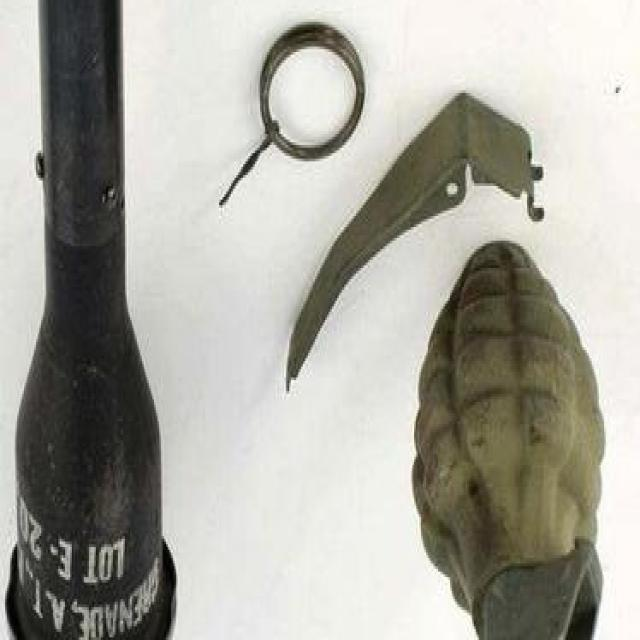grenade: (409, 242, 608, 640)
